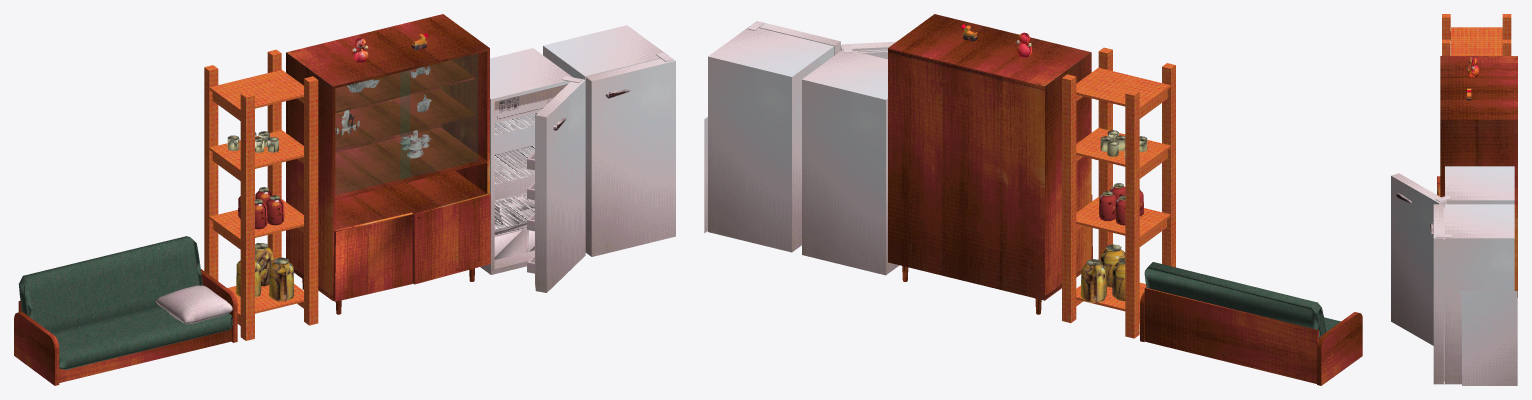
File: post-soviet-furniture-set-with-dithering-e179fb.glb
The picture shows the model from 3 angles, left to right: view 1: azimuth 30°, elevation 25°; view 2: azimuth 150°, elevation 25°; view 3: azimuth 270°, elevation 25°; orthographic projection. The views are drawn at different scales.
Visible parts, largest first — view 1: PropMesh; view 2: PropMesh; view 3: PropMesh.
Boxes of the visible parts, left/top/right/bottom form: PropMesh: left=14, top=14, right=675, bottom=385; PropMesh: left=704, top=14, right=1362, bottom=385; PropMesh: left=1391, top=14, right=1517, bottom=385.
Size of the model in its own units: 1.6 by 0.6381 by 0.3434.
5 materials, 4 textured.
